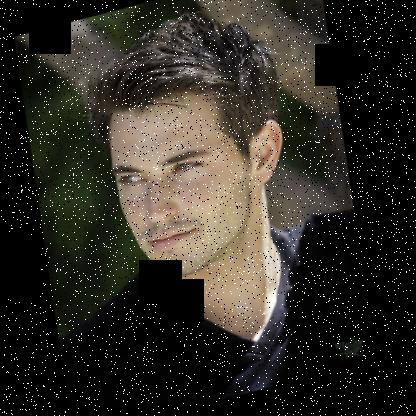Male: (92, 56, 312, 290)
